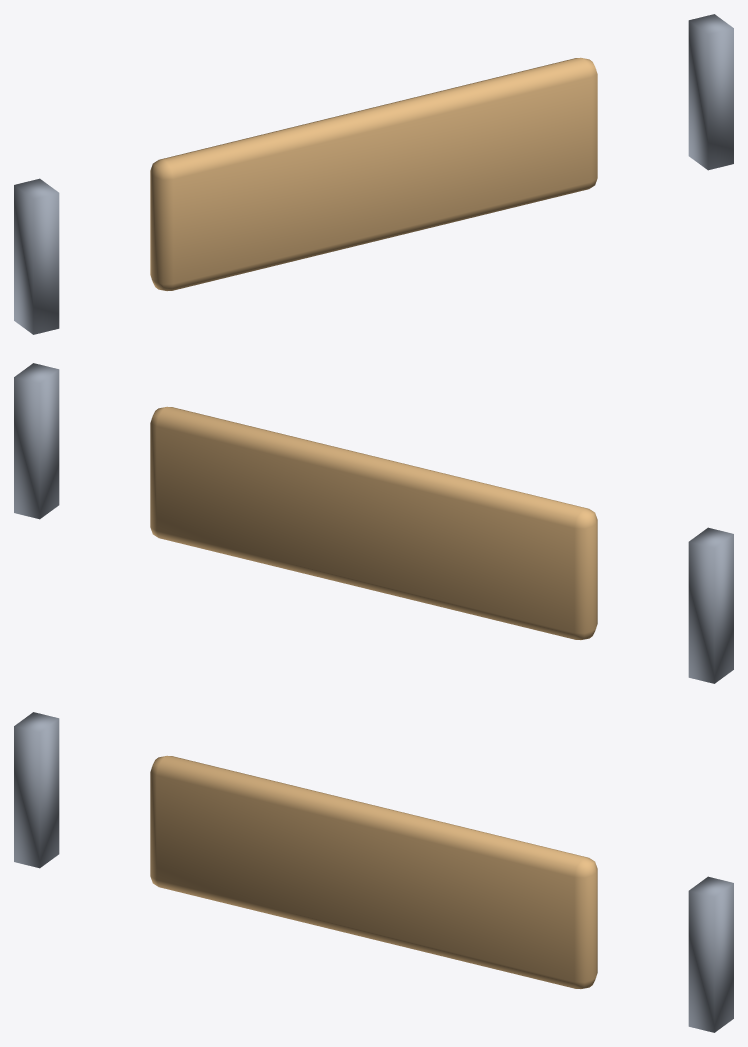
The model's file is prop-plank.glb.
3 views of the same model, one above another, from view 1: azimuth 30°, elevation 25°; view 2: azimuth 150°, elevation 25°; view 3: azimuth 330°, elevation 25° (orthographic).
Visible parts, largest first — view 1: Cube; view 2: Cube; view 3: Cube.
Part boxes in pixels (x1,y1,x2,y2): Cube: (14,14,733,334); Cube: (14,363,733,683); Cube: (14,712,733,1032).
Size of the model in its own units: 1.08 by 0.2 by 0.052.
